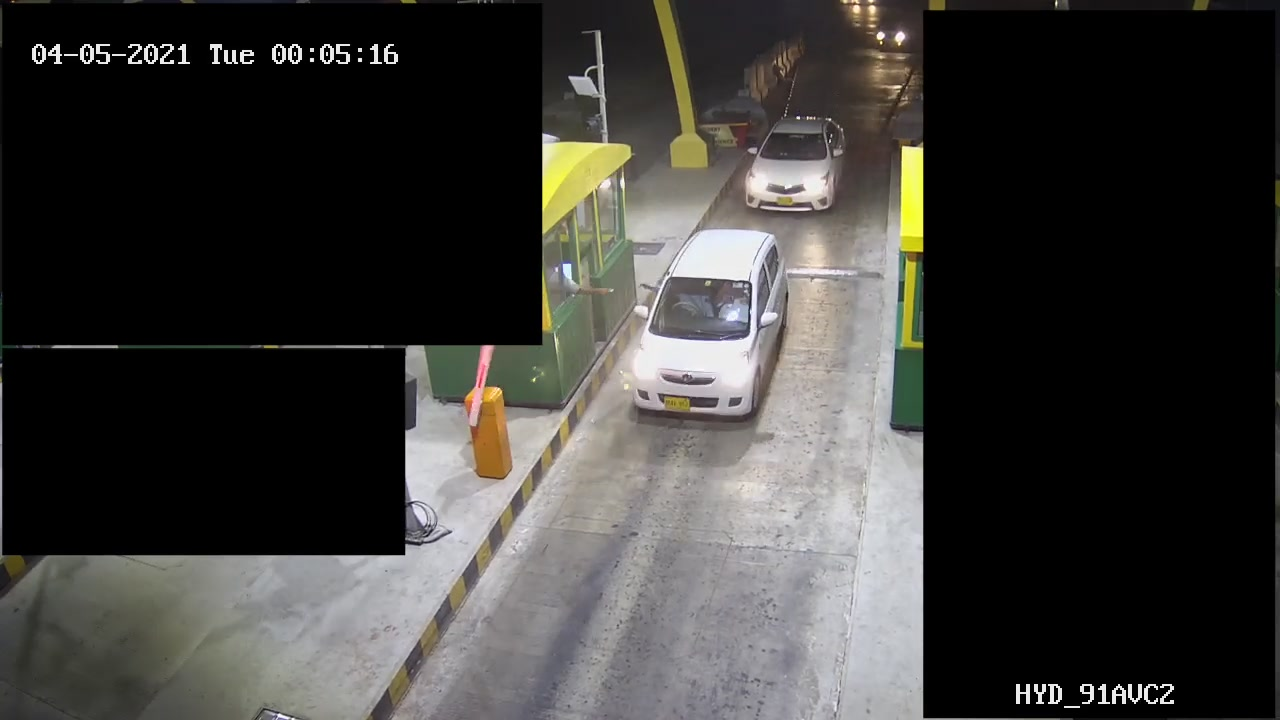F1: (628, 227, 795, 428), (743, 109, 863, 215)
